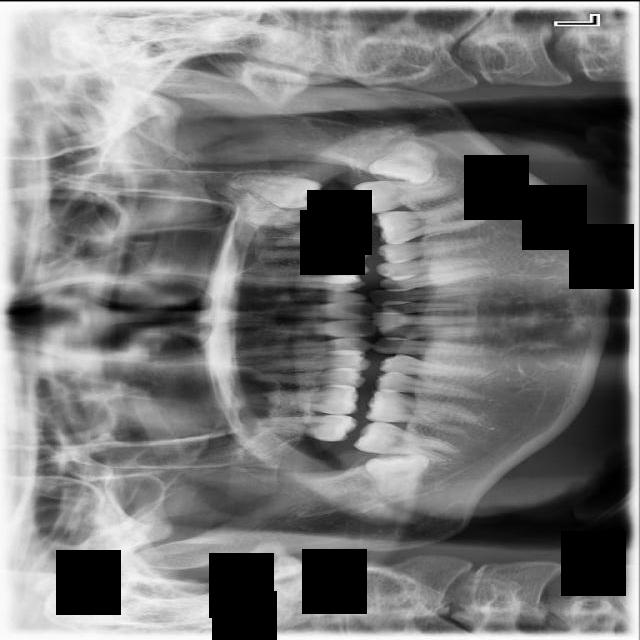52: (313, 215, 373, 252)
73: (235, 220, 313, 249), (544, 92, 552, 96)
BioHorizons Implant: (234, 192, 356, 230)
BioLife Implant: (215, 166, 324, 212)
Biomet 3i Implant: (366, 131, 440, 188)
Blue Sky Bio Implant: (352, 174, 461, 214)
Caries: (246, 413, 359, 443)
Implant: (351, 416, 463, 466)
Keystone Dental Implant: (363, 451, 433, 499)
